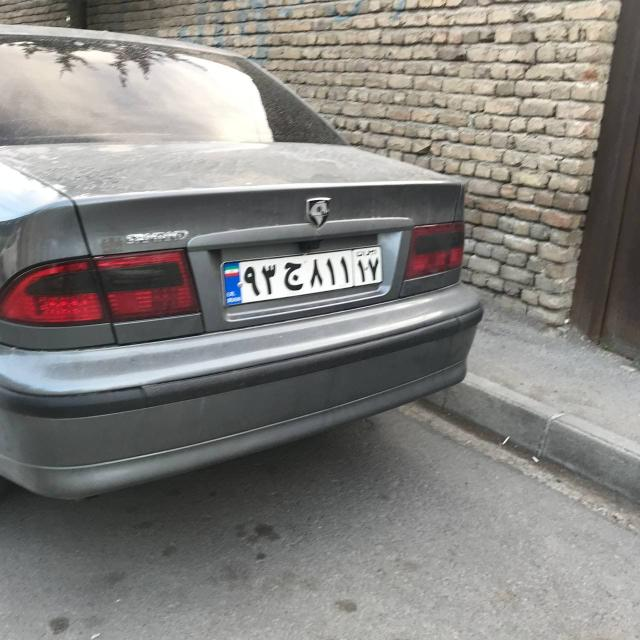Plates: (219, 237, 387, 306)
